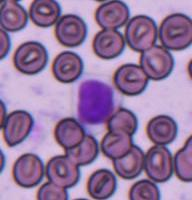L: (74, 75, 121, 126)
